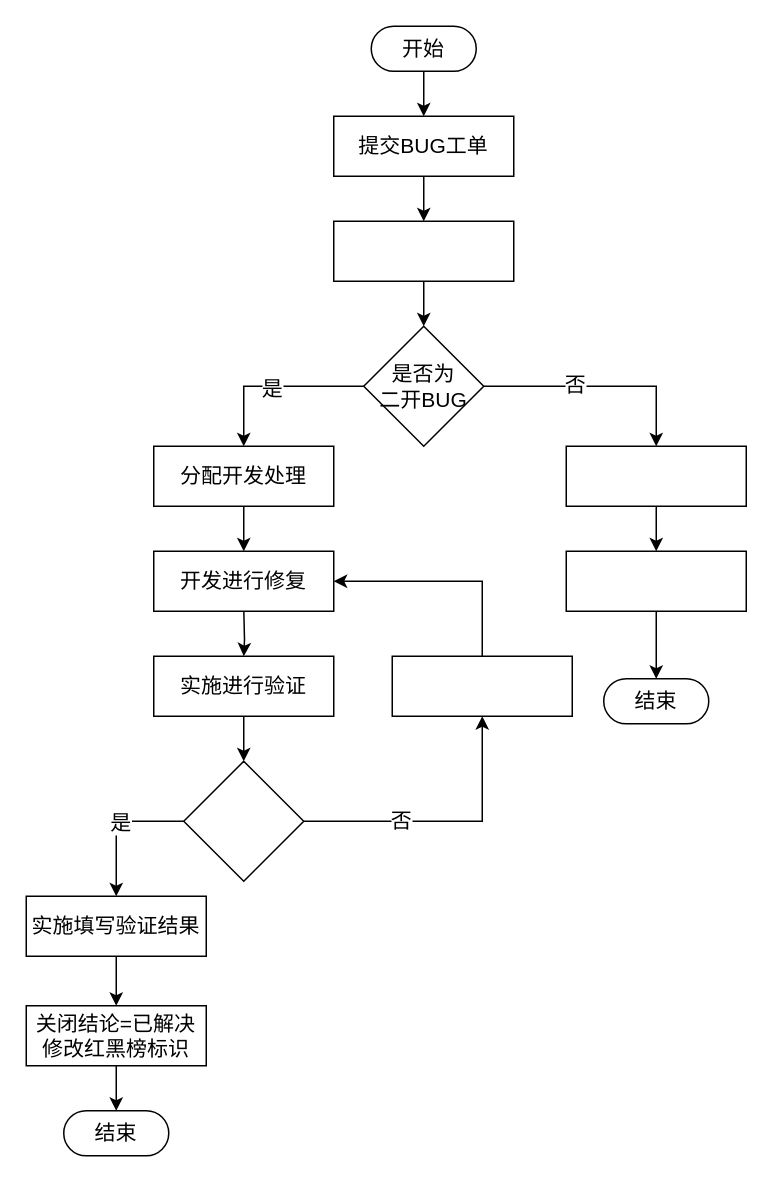
This 773x1182 diagram has some shape labels left out. Each missing label, with the box of its shape:
关闭结论=误报 工单状态=暂存: (565, 550, 746, 611)
填写意见并驳回: (565, 445, 746, 506)
开发组长审核: (332, 220, 514, 281)
是否验证 通过: (182, 760, 304, 881)
驳回: (391, 655, 572, 716)
